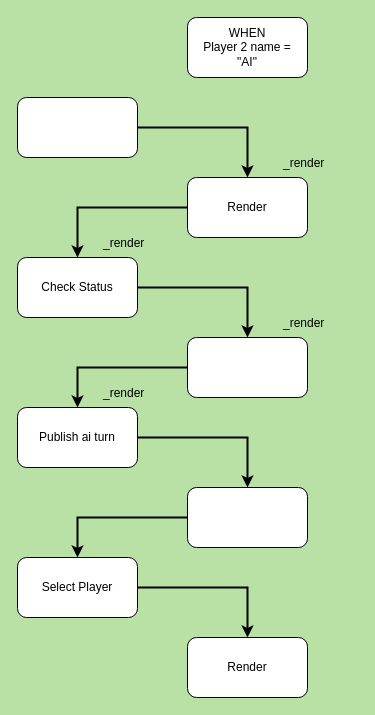
The diagram is 375 pixels wide and 715 high, and some of its shapes have lost their labels. Each missing label, with the centre of its shape:
AI publishes move: the point at 247,517
Player 1 moves: the point at 77,127
When lastPlay is Player 1: the point at 247,367
